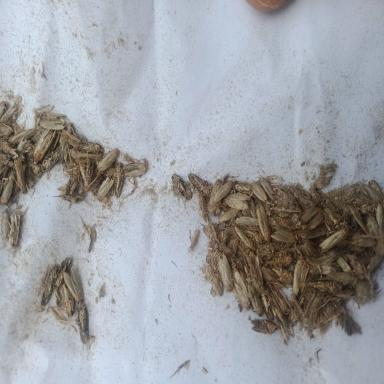pbw: (264, 277, 289, 316), (231, 264, 250, 310), (62, 265, 84, 304), (33, 130, 56, 166), (40, 264, 58, 308), (262, 267, 294, 290), (206, 253, 223, 295), (293, 256, 309, 300), (366, 217, 384, 256), (256, 201, 271, 243), (57, 282, 74, 319), (317, 304, 341, 330), (248, 251, 263, 292), (55, 255, 73, 289), (320, 230, 350, 250), (171, 173, 192, 201), (269, 224, 298, 244), (272, 309, 288, 345), (349, 204, 368, 234), (187, 173, 211, 196), (97, 148, 120, 172), (325, 207, 347, 232), (35, 113, 65, 131), (218, 253, 232, 291), (212, 180, 235, 203), (309, 252, 341, 268), (247, 279, 262, 313), (310, 280, 344, 295), (234, 226, 257, 248), (223, 192, 251, 210), (27, 145, 43, 176), (301, 207, 323, 229), (306, 291, 322, 321), (324, 289, 354, 305), (250, 318, 278, 335), (41, 146, 60, 171), (1, 171, 15, 204), (262, 290, 278, 318), (80, 160, 94, 192), (315, 167, 335, 189), (84, 170, 104, 192), (329, 270, 356, 286), (270, 206, 303, 219), (9, 213, 21, 248), (78, 304, 88, 346), (293, 188, 313, 209), (97, 176, 113, 202), (0, 140, 23, 158), (301, 226, 326, 242), (361, 185, 382, 204), (113, 160, 124, 196), (14, 160, 26, 193), (74, 141, 104, 154), (350, 255, 366, 279), (10, 128, 34, 144), (0, 104, 18, 125), (122, 161, 147, 176), (353, 233, 375, 250), (210, 178, 222, 209), (226, 236, 240, 262), (265, 253, 293, 266), (310, 264, 337, 277), (61, 129, 80, 147), (234, 181, 255, 197), (68, 168, 80, 196), (24, 165, 34, 197), (252, 182, 267, 203), (279, 243, 305, 255), (260, 177, 274, 199), (0, 163, 9, 195), (234, 216, 260, 227), (198, 191, 207, 221), (69, 148, 84, 166), (219, 210, 238, 224), (2, 210, 10, 239), (60, 141, 69, 165), (376, 205, 384, 229), (367, 258, 380, 272), (338, 256, 350, 271), (249, 199, 256, 219), (0, 100, 7, 120), (0, 126, 15, 132), (66, 122, 72, 134)
